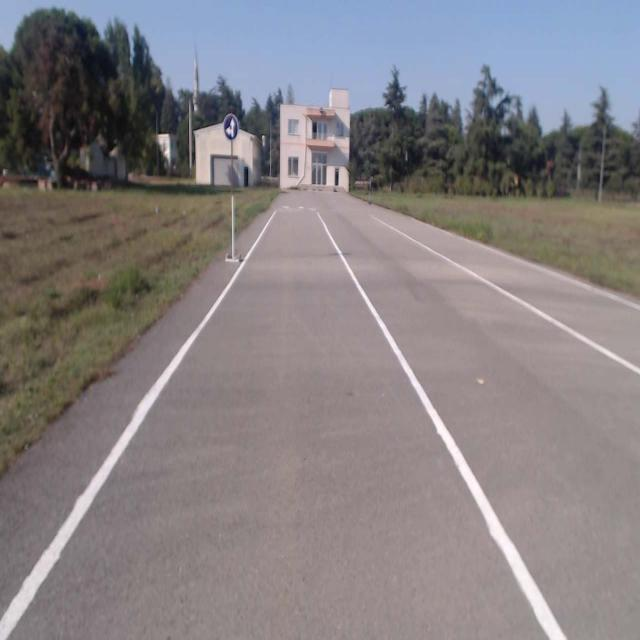ilerisol: (224, 114, 238, 141)
